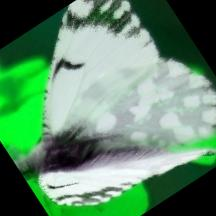butterfly: (15, 0, 216, 206)
